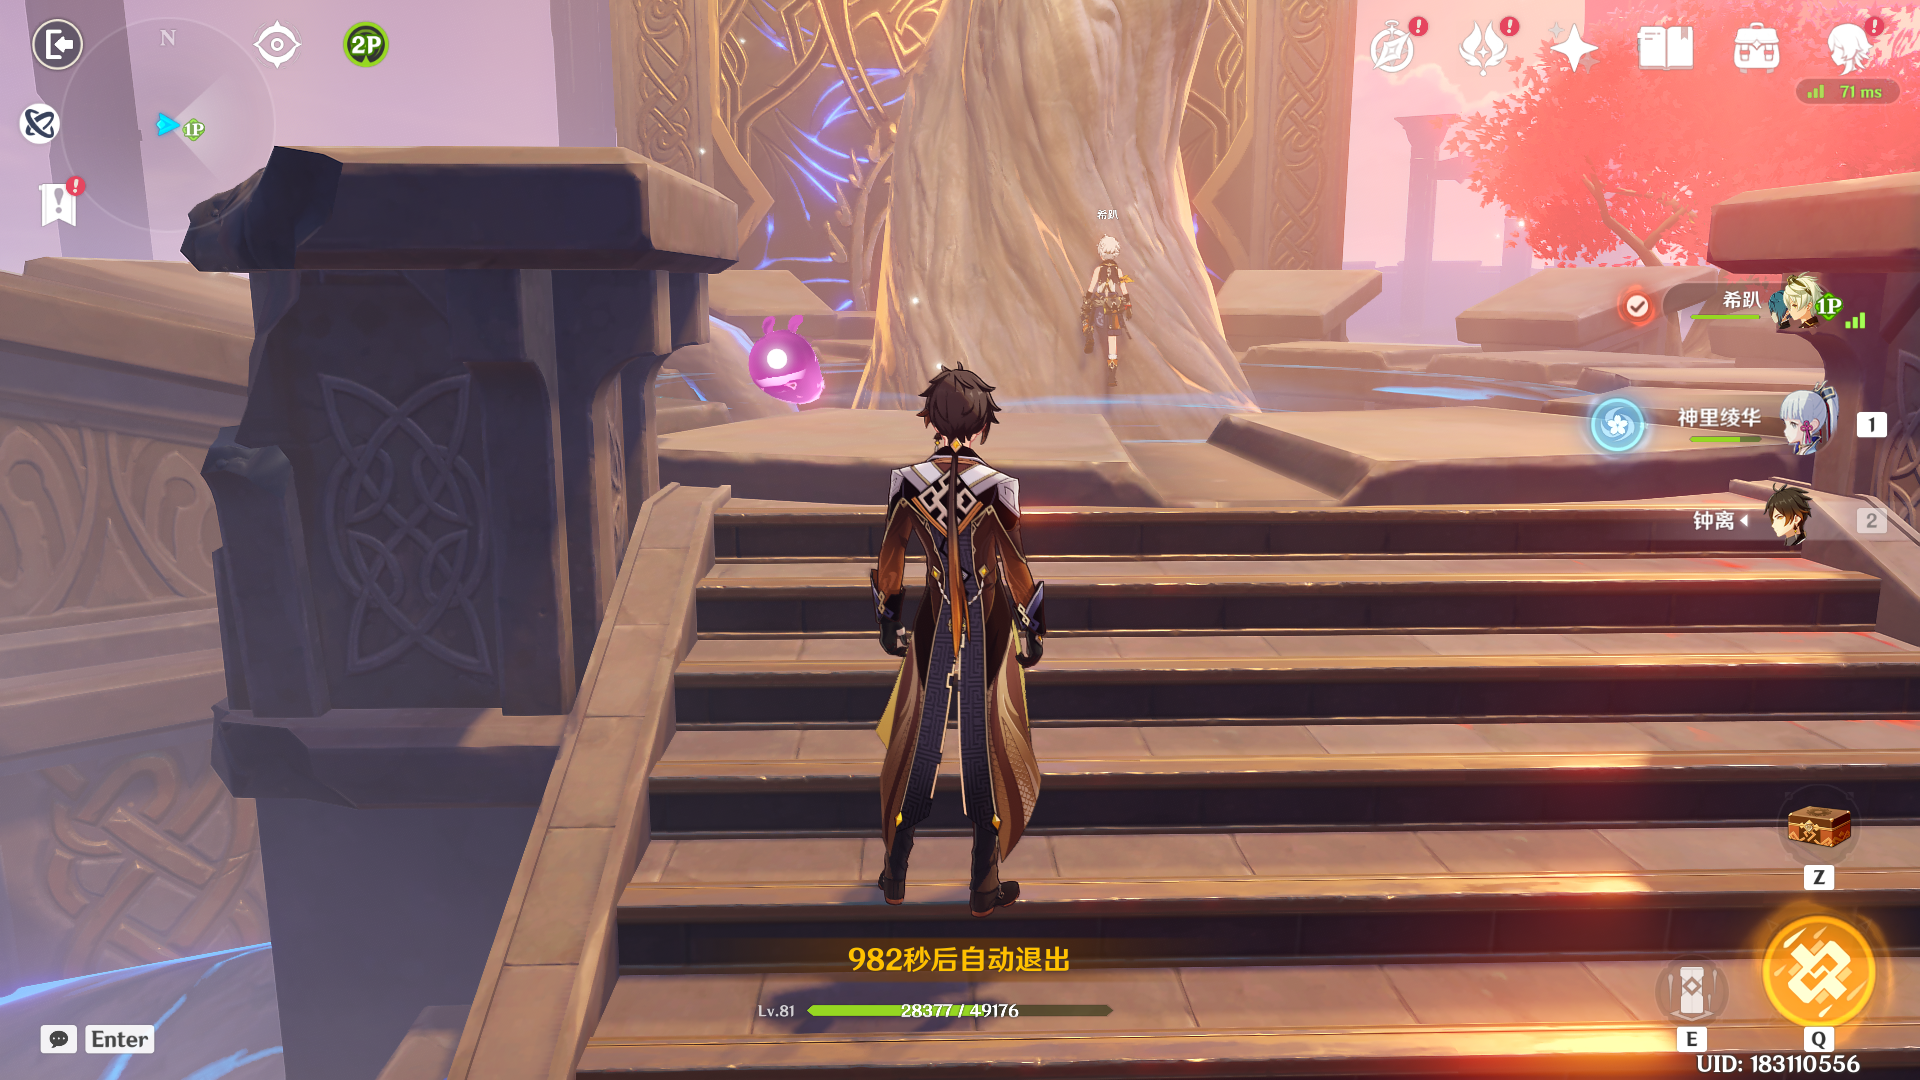character: (808, 342, 1091, 938), (1051, 228, 1164, 402)
